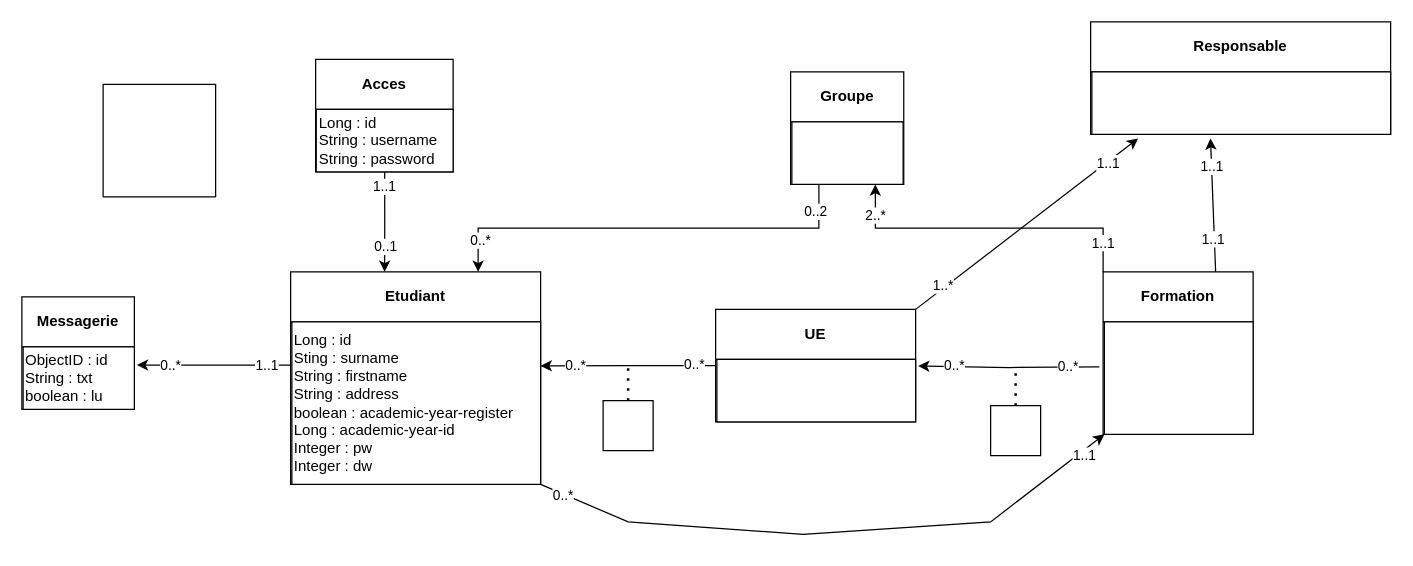
This 1413x566 diagram has some shape labels left out. Each missing label, with the centre of its shape:
"boolean : estObligatoire int : capacite String : nom" belongs at pixel 816 390.
"Front" belongs at pixel 159 140.
"gpType : type String : nom" belongs at pixel 847 152.
"int : TailleTP int : TailleTD String : nom int : nbUeOption" belongs at pixel 1178 377.
"String : nom String : email" belongs at pixel 1241 102.
